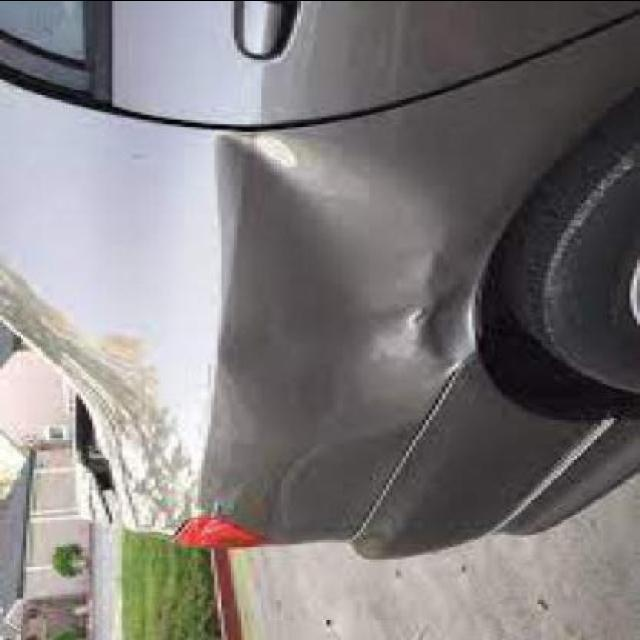quaterpanel-dent: (132, 133, 568, 393)
